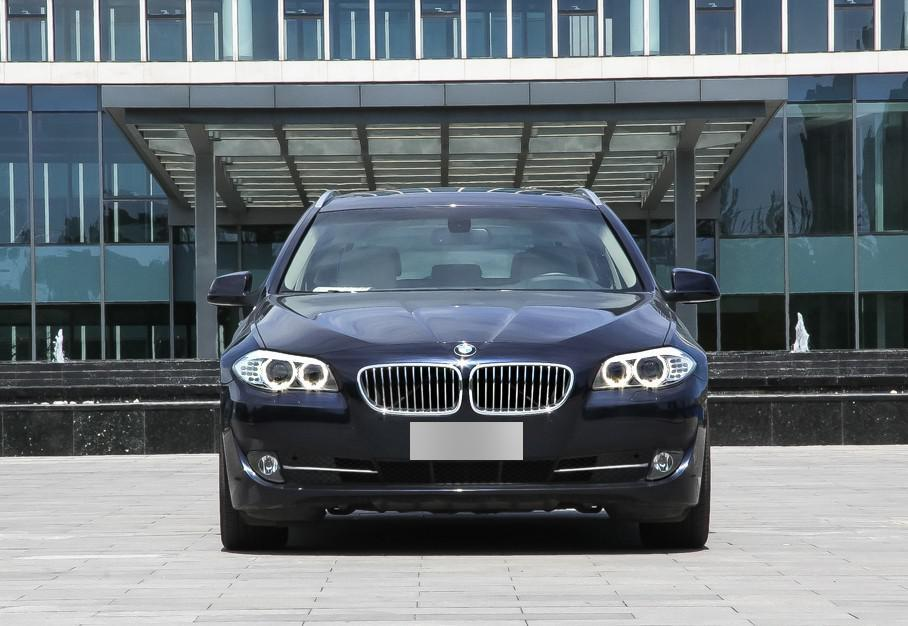Wagon: (207, 187, 722, 552)
